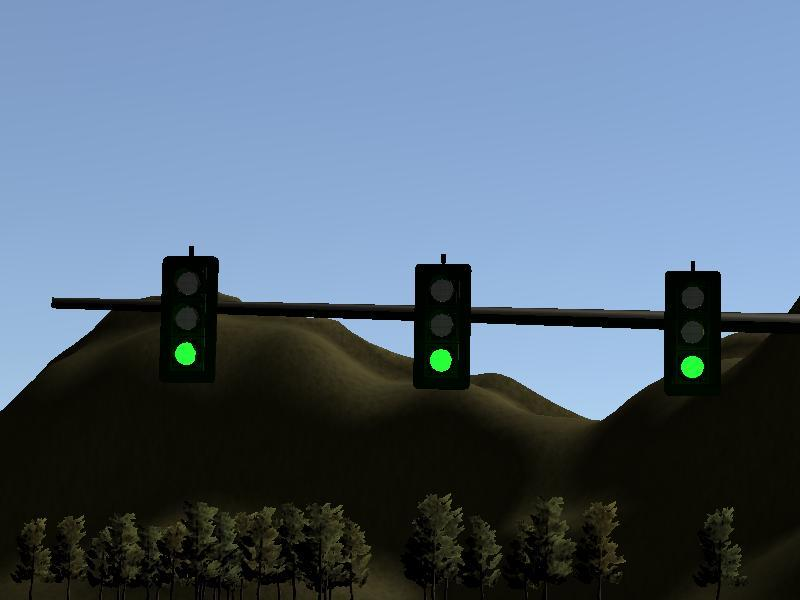Green: (160, 256, 218, 383), (663, 270, 721, 397), (412, 263, 470, 390)
